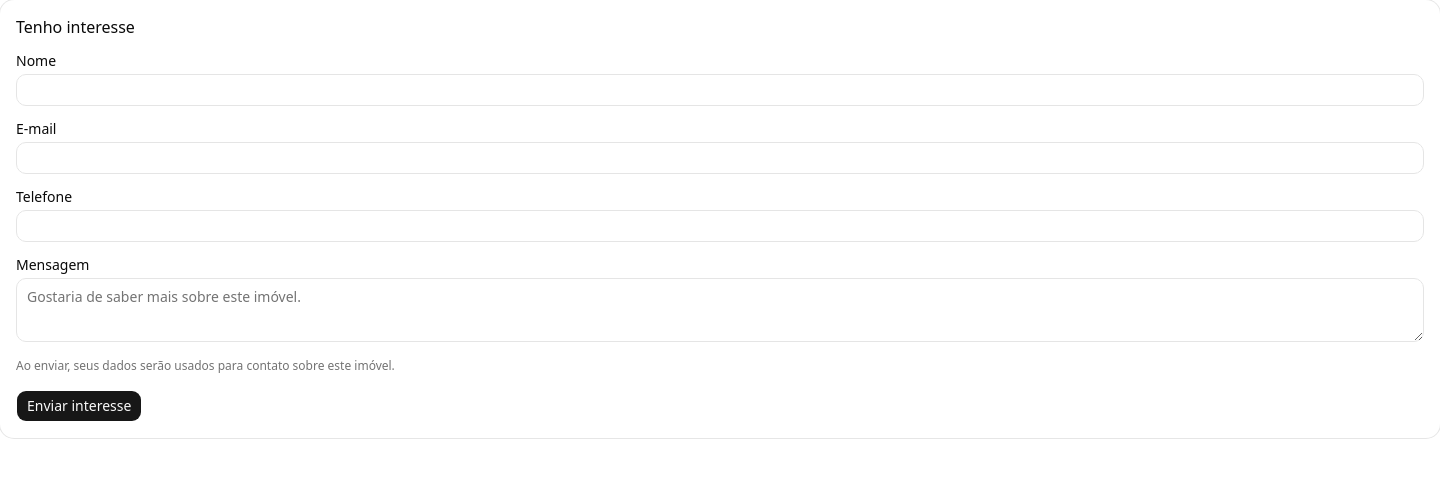
Scenario: PropertyInterestForm — error handling › shows the unavailable-property message for 404
Step 1. Type "Maria Souza" into the field labelled "Nome" → (720, 90), box 16,74 -> 1424,106
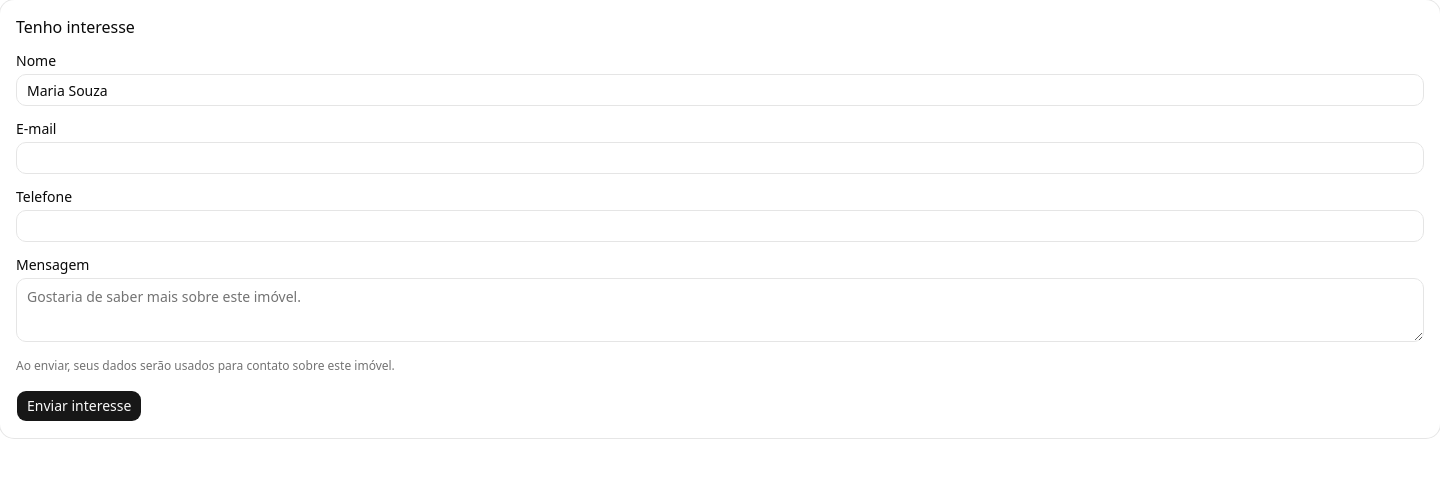
Step 2. Type "maria@example.com" into the field labelled "E-mail" → (720, 158), box 16,142 -> 1424,174
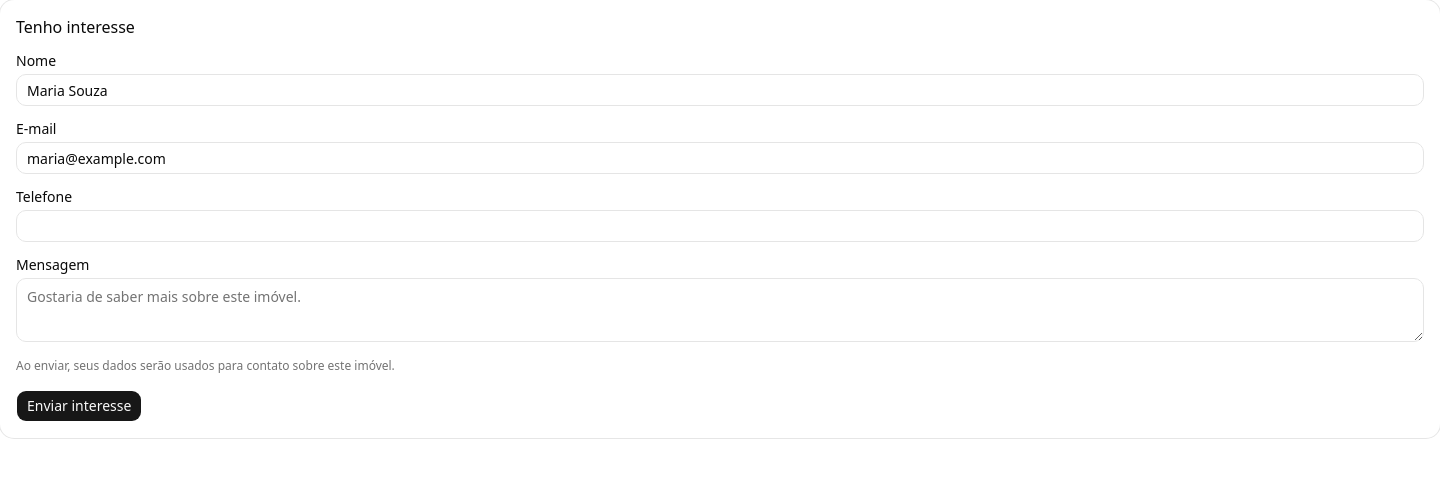
Step 3. Click the button "Enviar interesse" → (79, 406), box 16,390 -> 142,422
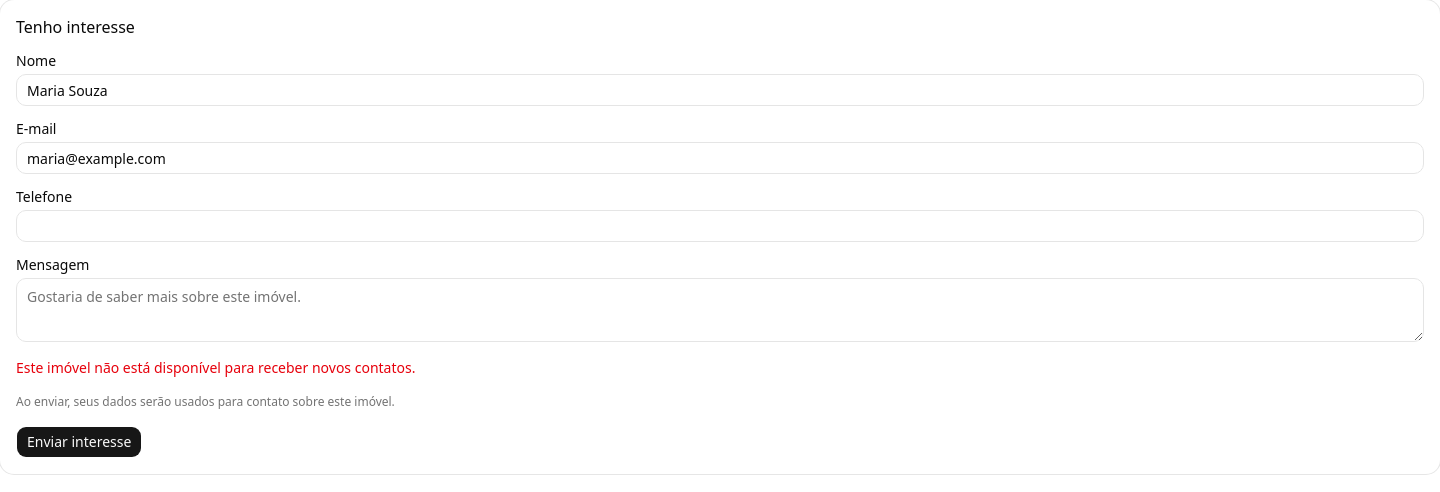
expect the message reads "Este imóvel não está disponível para receber novos contatos.": met, box 16,358 -> 415,377
